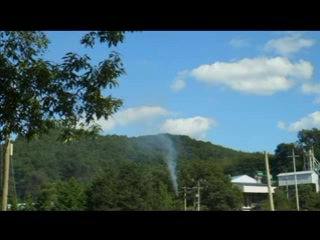smoke: (144, 134, 183, 198)
